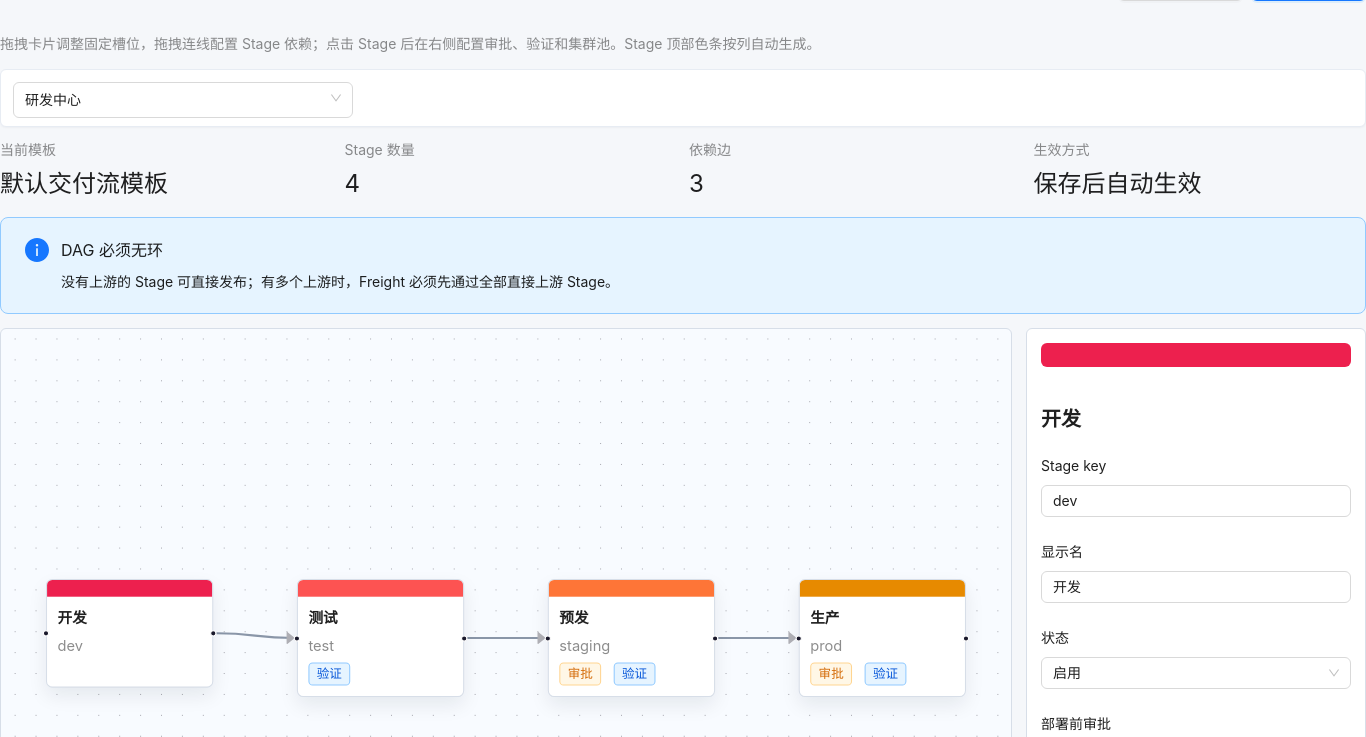
Test: Stage 集群绑定使用弹窗和单选列表
The width and height of the screenshot is (1366, 737).
Click the element named "dev Stage 模板": {"x": 130, "y": 633} [46,579,213,688]
(page scrolled)
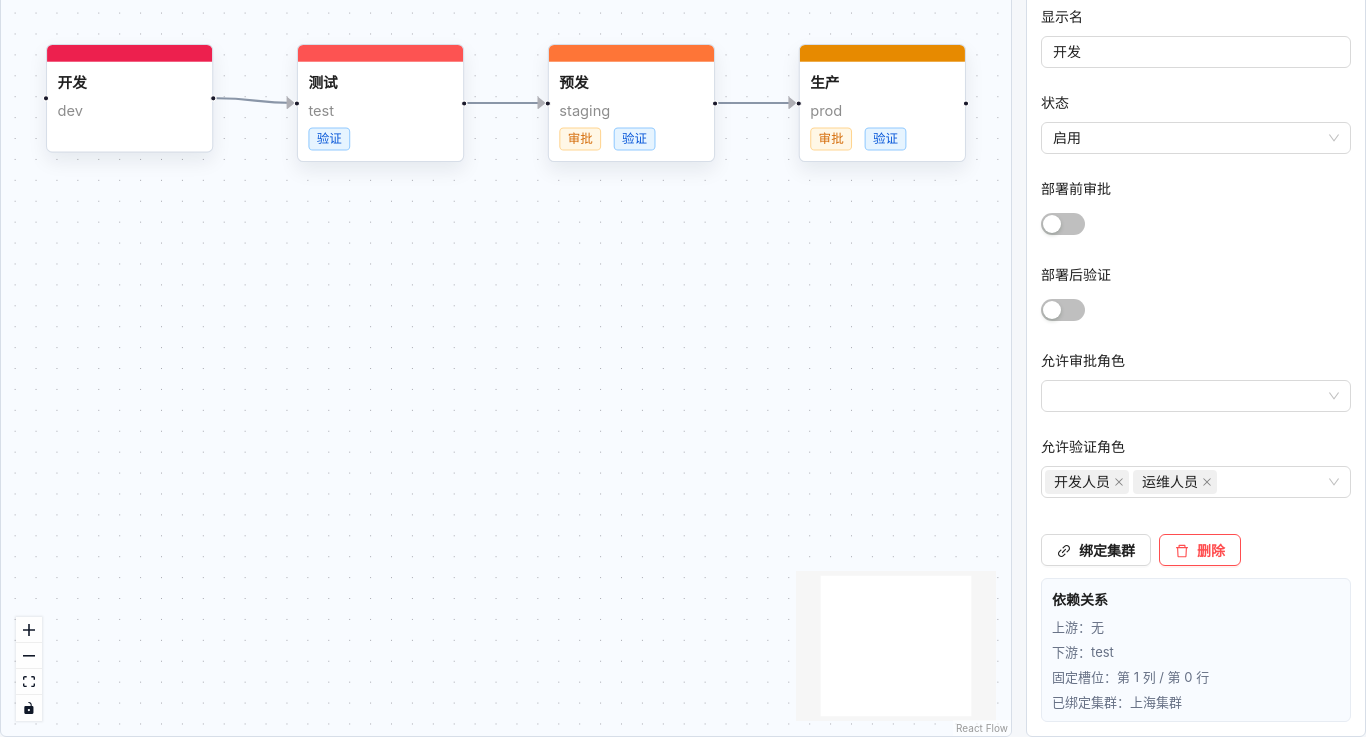
Click the button "绑定集群": {"x": 1096, "y": 550} [1041,534,1151,566]
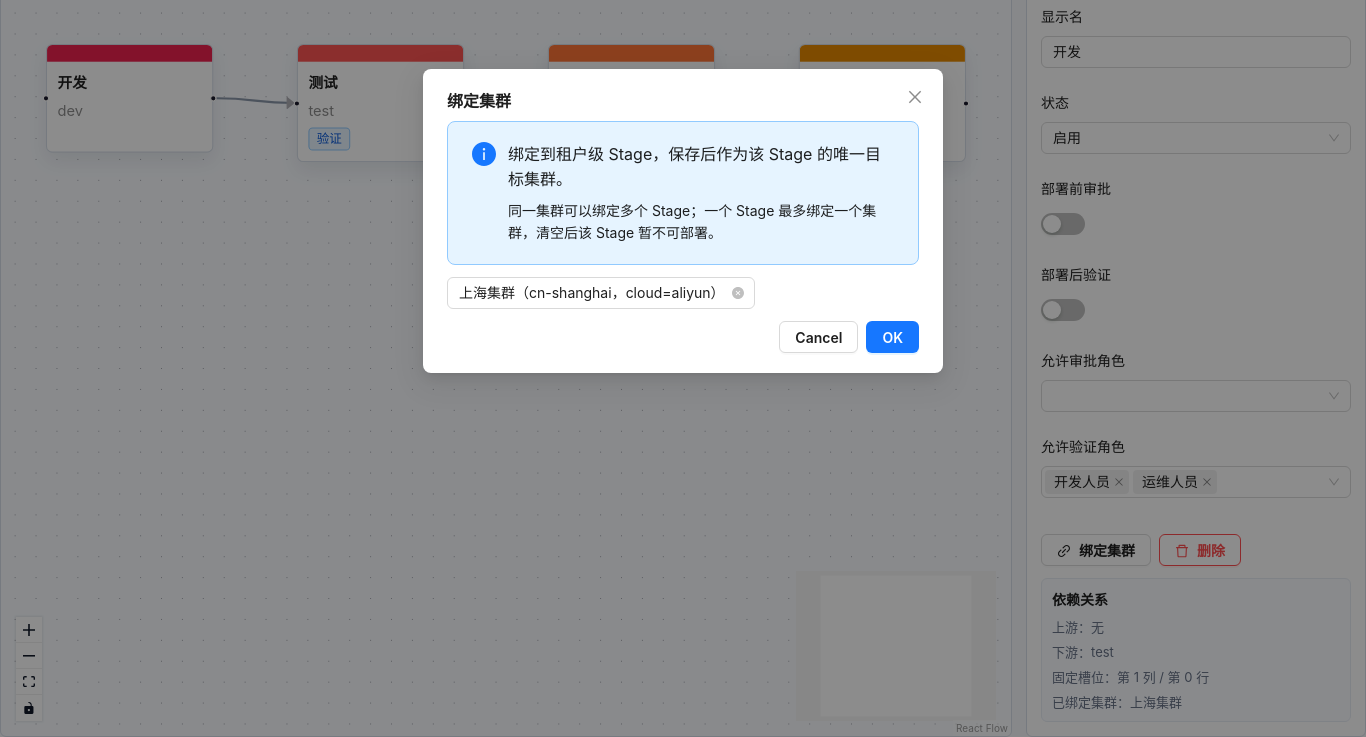
Check: the text "绑定到租户级 Stage，保存后作为该 Stage 的唯一目标集群。" is shown, box [508,142,894,192]
Check: the text "同一集群可以绑定多个 Stage；一个 Stage 最多绑定一个集群，清空后该 Stage 暂不可部署。" is shown, box [508,200,894,244]
Check: the element named "绑定集群" is shown, box [447,277,755,309]
